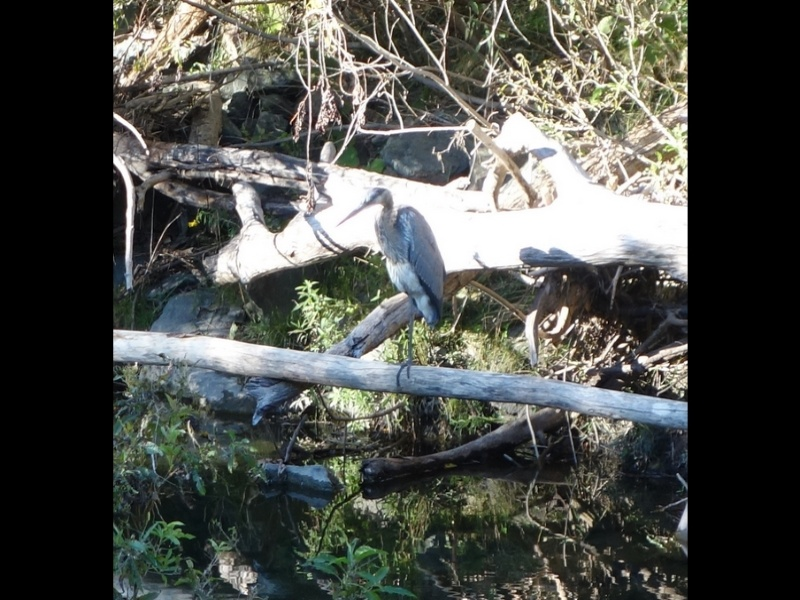heron: (338, 187, 445, 372)
